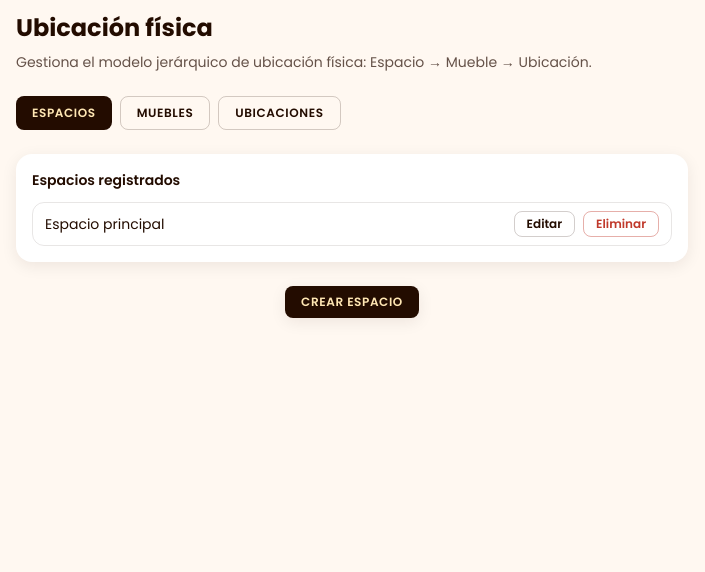
it: GestionUbicacionFisicaComponent › pestaña Espacios › "Crear espacio" abre el formulario vacío en modo crear
This screenshot has width=705, height=572.
What coordinates should you click on to do the following:
click the button "Crear espacio"
I would click on:
 (352, 302)
Its box is [285, 286, 419, 318].
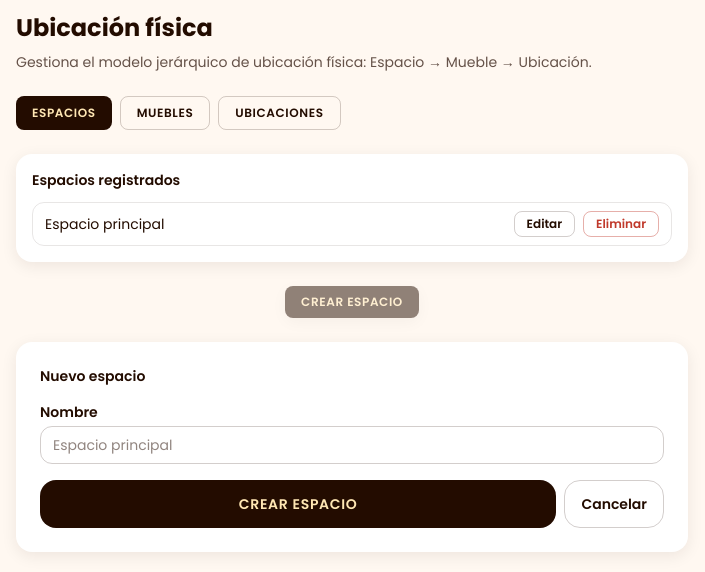
Result: the text "Nuevo espacio" is shown at [40, 366, 145, 386]
